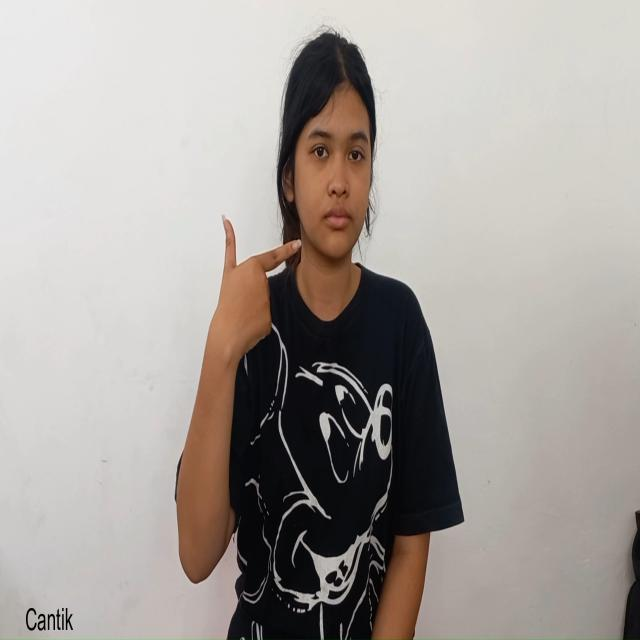Cantik -BISINDO-: (202, 22, 384, 391)
